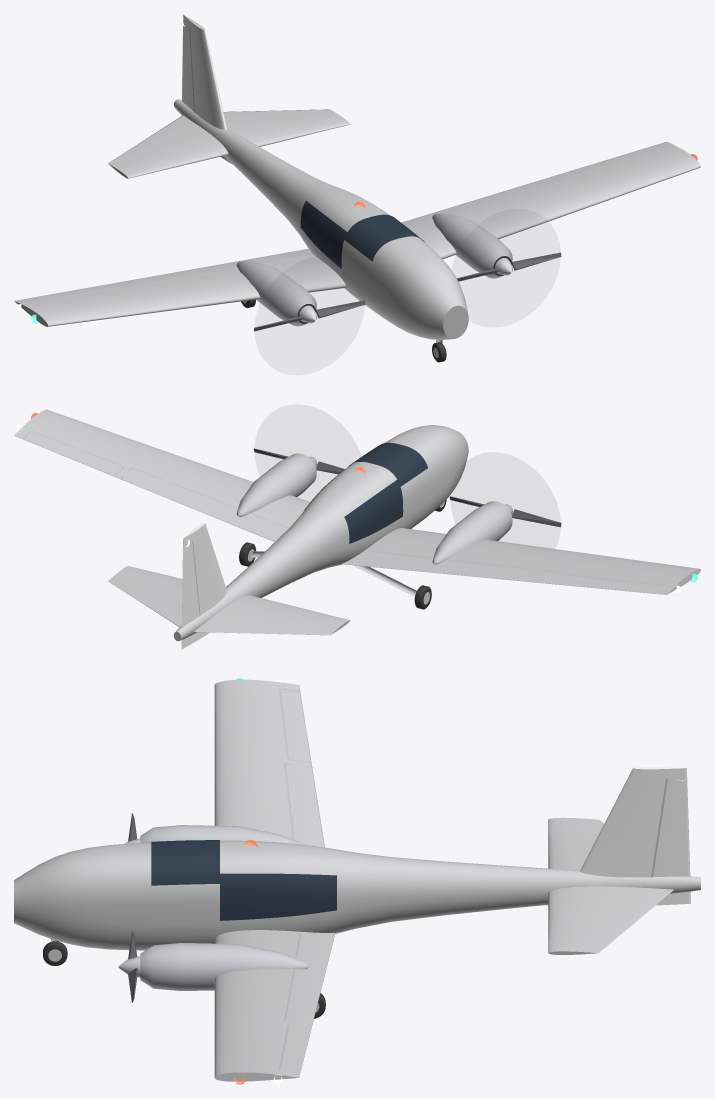
The picture shows the model from 3 angles, top to bottom: view 1: azimuth 30°, elevation 25°; view 2: azimuth 150°, elevation 25°; view 3: azimuth 270°, elevation 25°; orthographic projection. The views are drawn at different scales.
Parts seen in each view (by area): view 1: airframe, prop (×2); view 2: airframe, gear, prop; view 3: airframe, gear.
Boxes of the visible parts, <box> form: airframe: <box>14,14,700,339</box>; prop (×2): <box>254,252,561,331</box>; airframe: <box>14,409,700,649</box>; gear: <box>239,499,446,609</box>; prop: <box>449,496,561,527</box>; airframe: <box>14,678,700,1084</box>; gear: <box>43,939,325,1018</box>.
Size of the model in its own units: 11.72 by 2.89 by 8.5.
